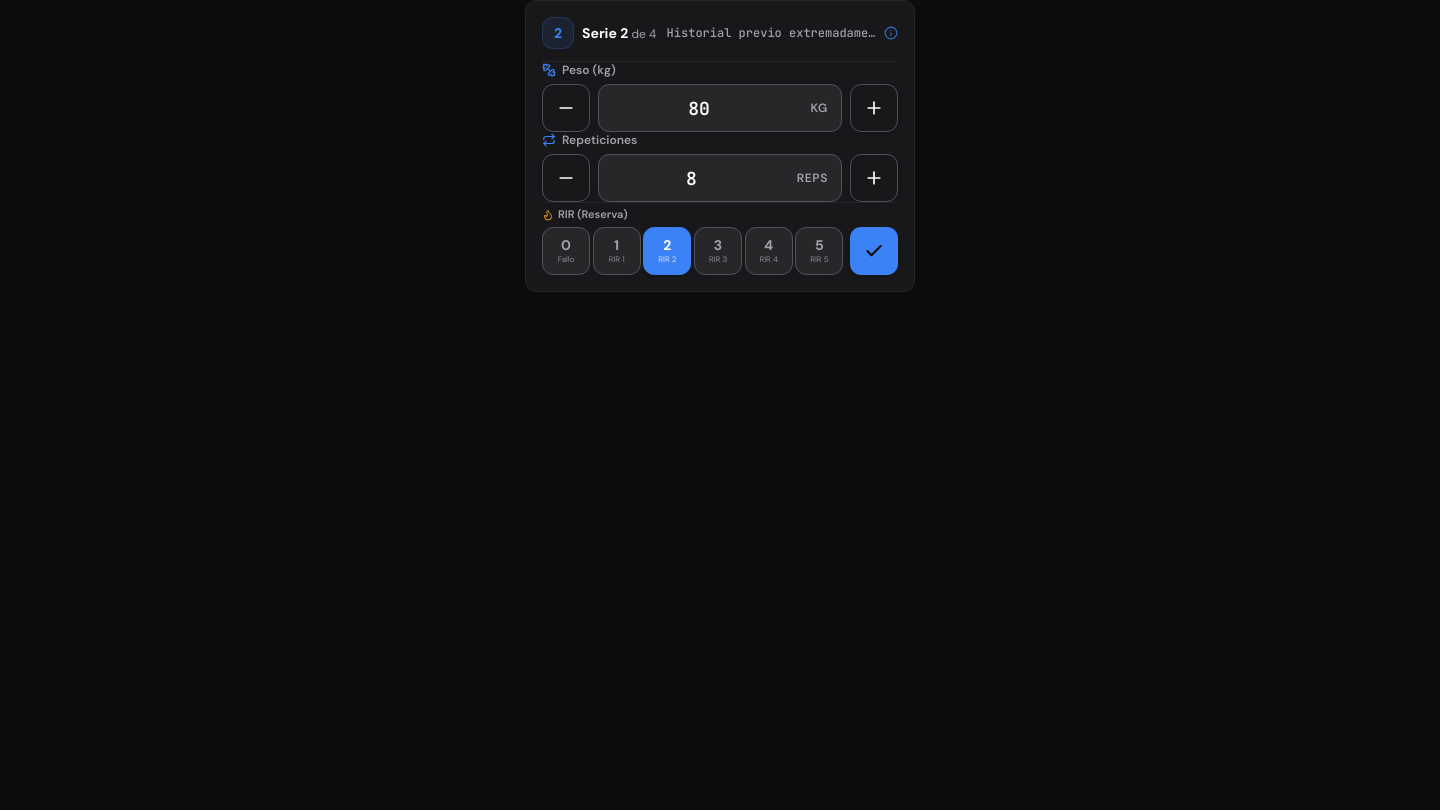
Test: T-17: ModularSetCard.tsx con disposición modular para 320px (RF-08, RF-09, RF-12, RF-13, CF-07) › 1. Estructura modular en bloques verticales para 320px (RF-12, CF-07) › si el historial es largo, trunca y permite abrir modal informativo con un tap
# Click abre modal informativo
Step 1. Click the button with test id "history-trigger" → point(782, 33), box [667, 25, 898, 41]
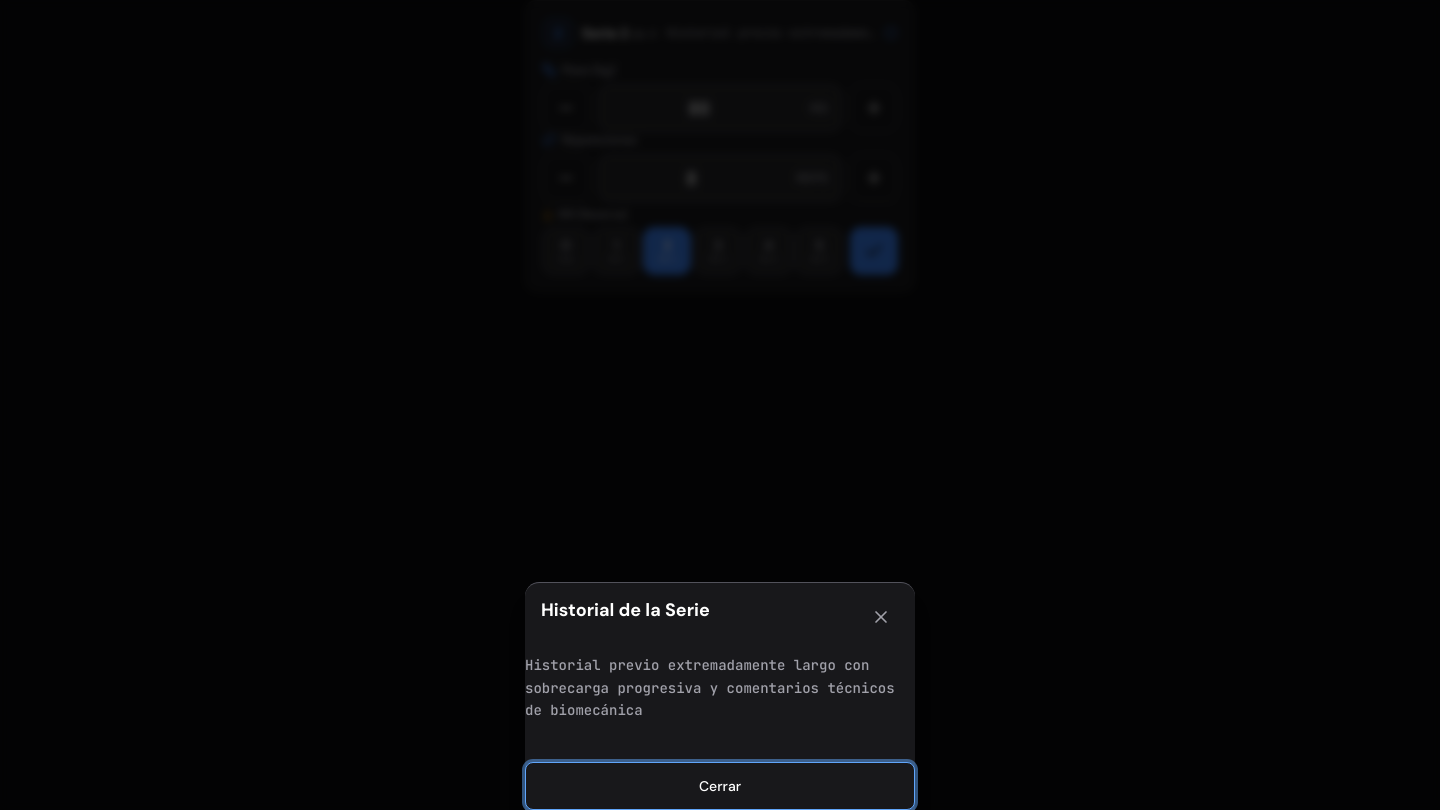
Result: the dialog is shown at [525, 582, 915, 809]
Result: the dialog shows "Historial previo extremadamente largo" at [525, 656, 895, 719]
